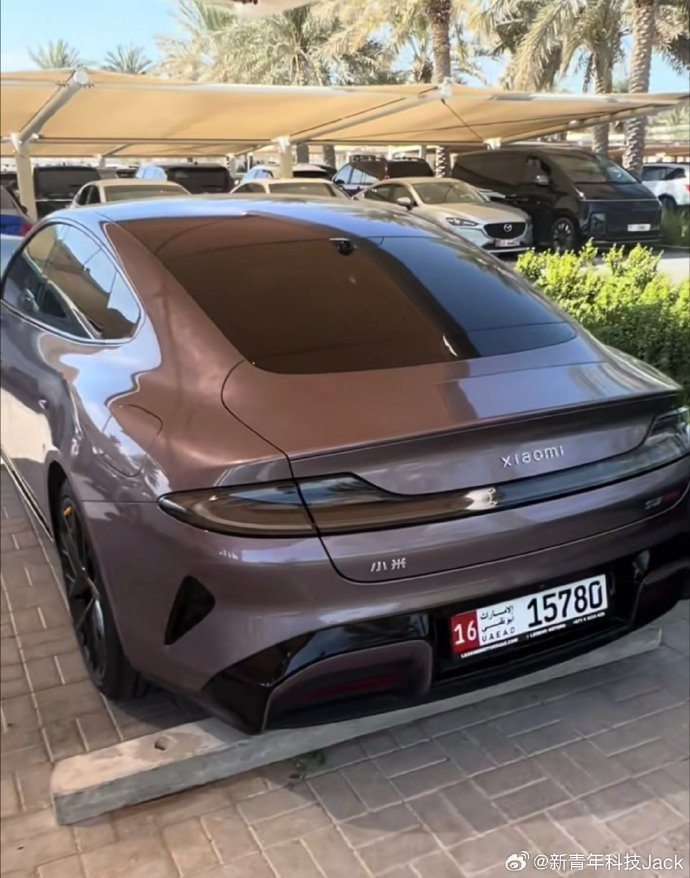su7: (6, 191, 690, 735)
